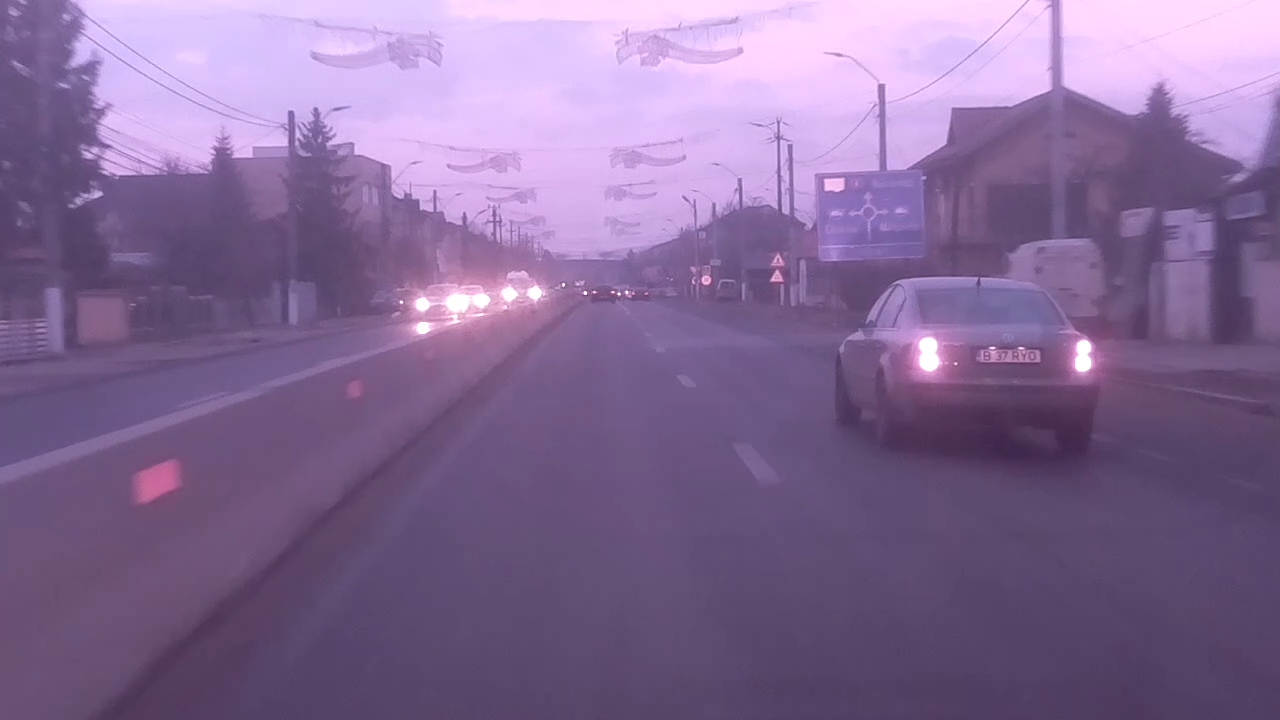license-plate: (970, 345, 1045, 366)
